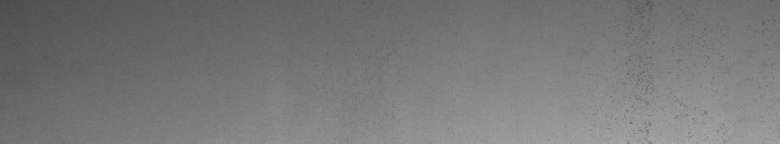ib: (617, 4, 776, 134)
